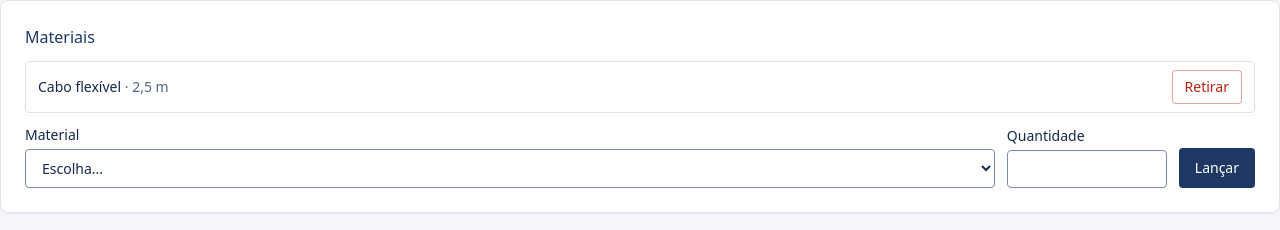
Test: Materiais do chamado (RF07) › retira o lançamento
Click the button with aria-label "Retirar Cabo flexível": (1207, 87) [1172,70,1242,104]
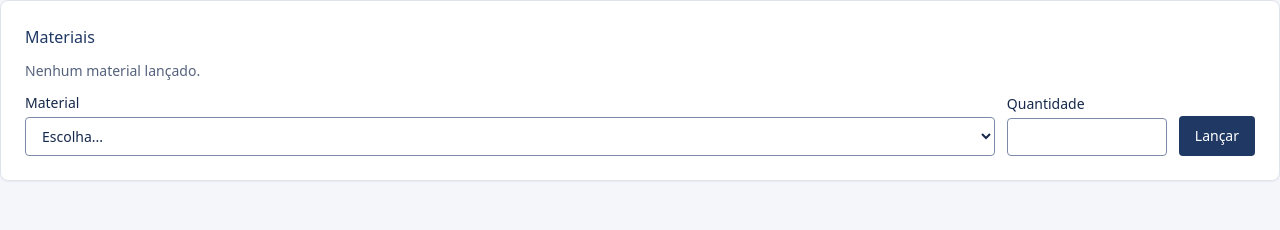
Expected: the text "Nenhum material lançado." is shown, [25,61,200,80]
